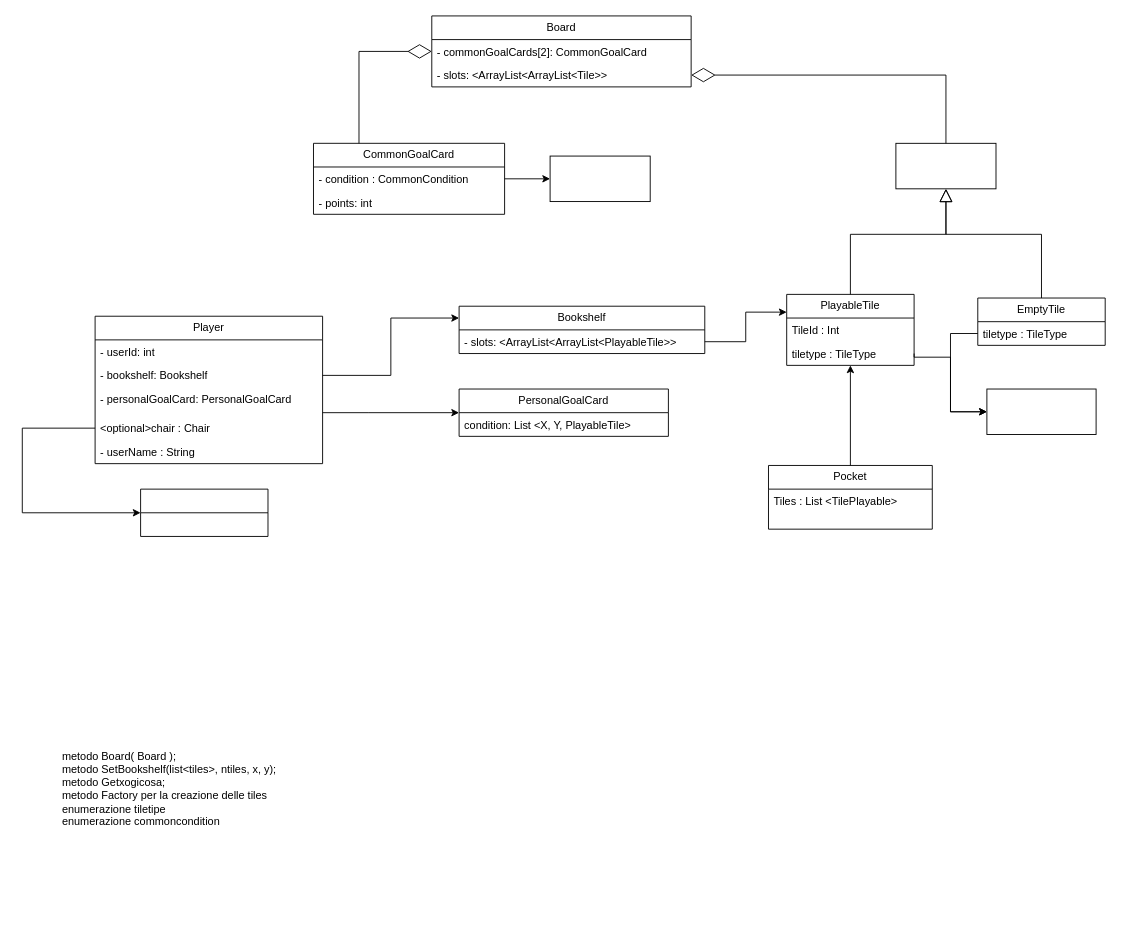
Image size: 1121x926. Some labels were removed from this diagram. The shapes that lost their labels are listed below. From the top down, each one's centre as x and y in pixels, then its label:
point (599, 178): CommonCondition
point (945, 165): Tile
point (1041, 411): TileType
point (204, 512): Chair
